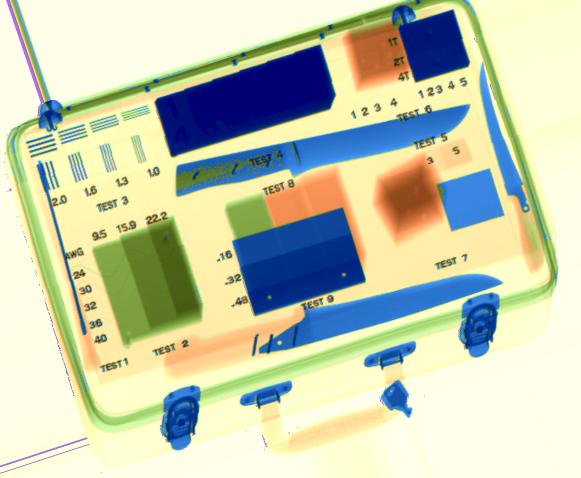Knife: (174, 102, 472, 199), (246, 272, 504, 364), (478, 59, 549, 276)
